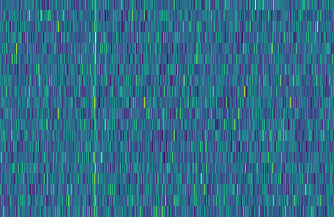signal: (88, 0, 98, 217)
